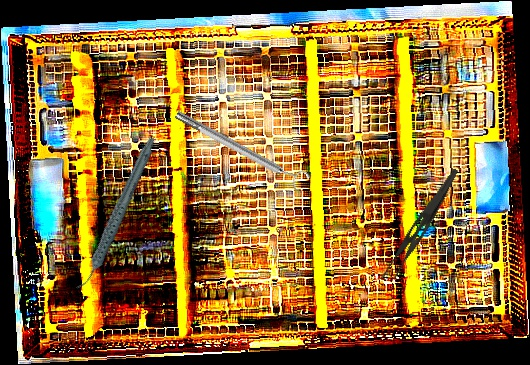Dressing Forceps: (378, 161, 460, 288)
Fixation Ring: (171, 102, 312, 196)
Handpiece: (47, 135, 184, 292)
